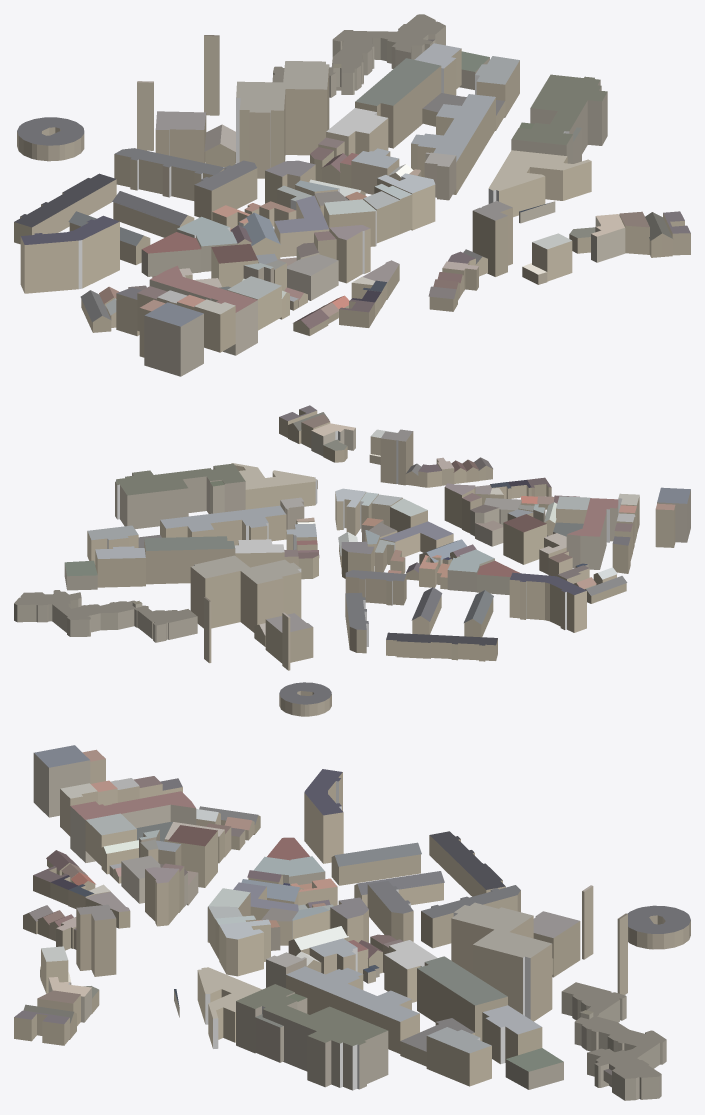
3 views of the same model, one above another, from view 1: azimuth 30°, elevation 25°; view 2: azimuth 150°, elevation 25°; view 3: azimuth 270°, elevation 25° (orthographic). The views are drawn at different scales.
Parts seen in each view (by area): view 1: tuile; view 2: tuile; view 3: tuile.
Boxes of the visible parts, <box> form: tuile: <box>14,14,690,376</box>; tuile: <box>14,405,690,716</box>; tuile: <box>14,745,690,1100</box>.
Size of the model in its own units: 277 by 45.43 by 273.
